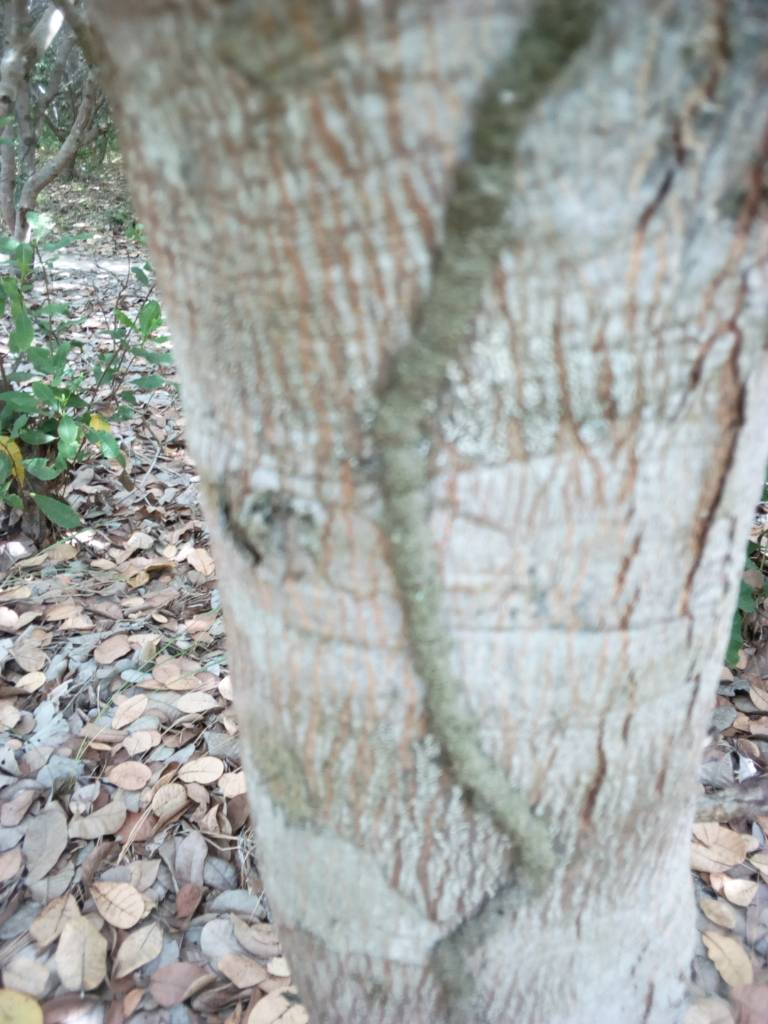Termites: (379, 397, 541, 1017)
